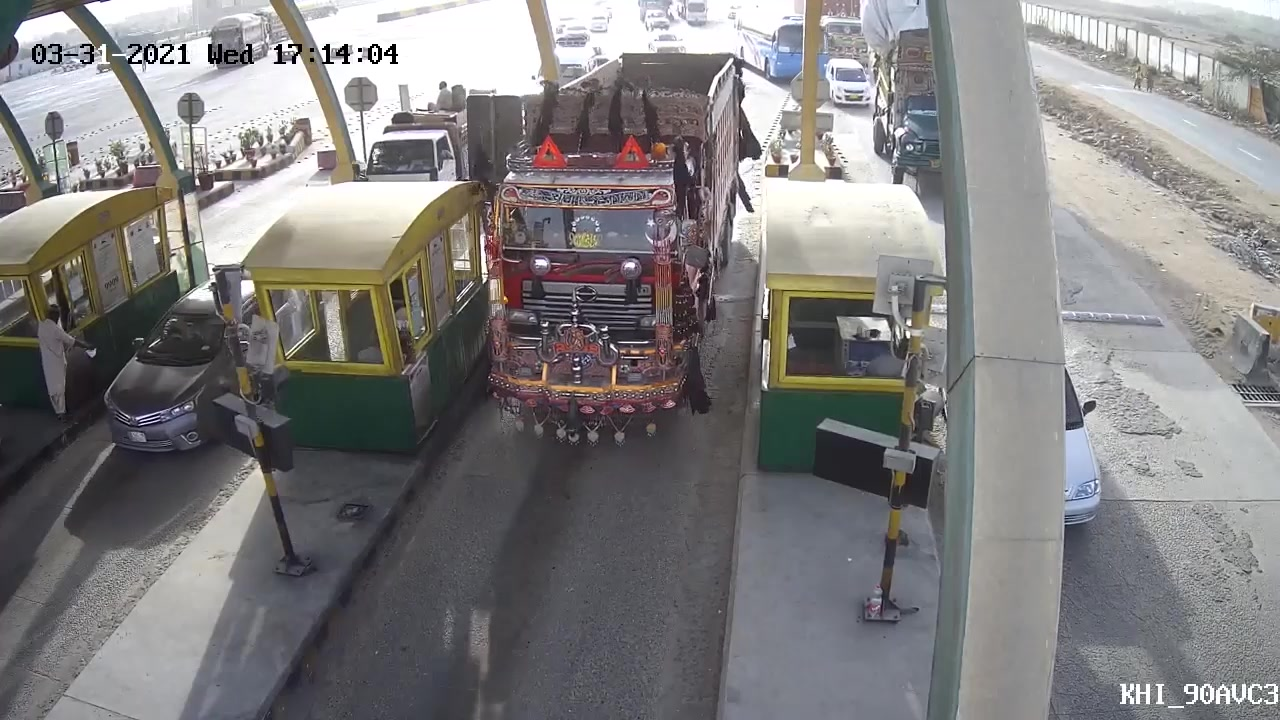F5: (474, 45, 751, 462)
